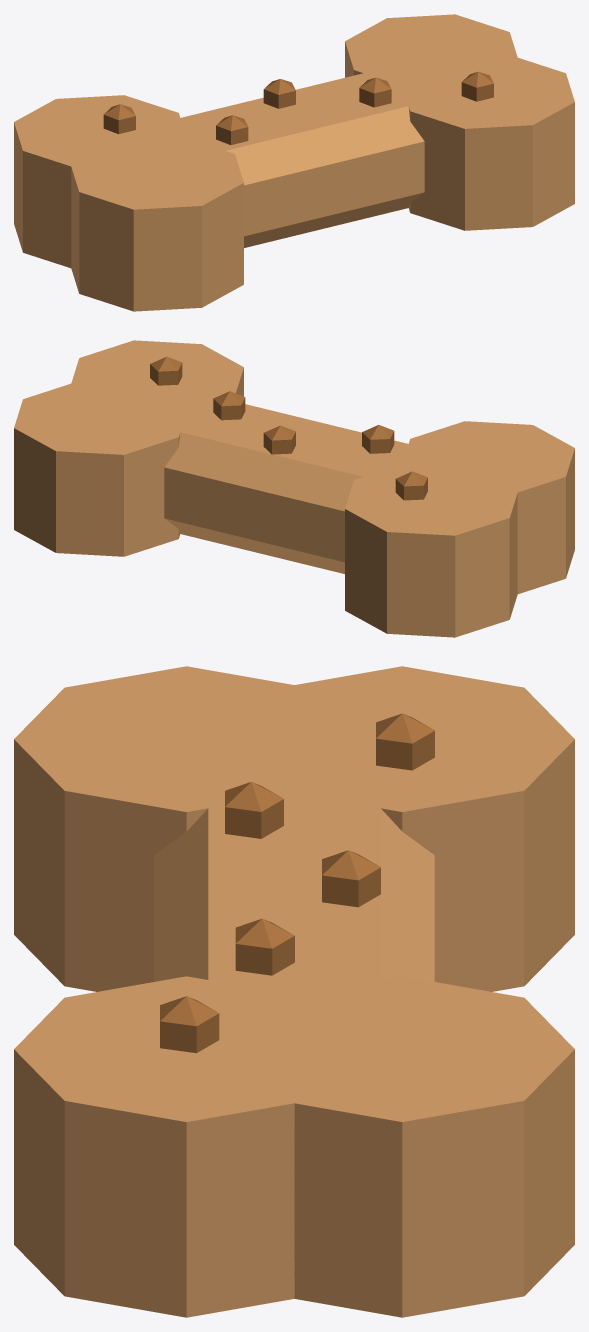
The model's file is treat.glb.
3 views of the same model, one above another, from view 1: azimuth 30°, elevation 25°; view 2: azimuth 150°, elevation 25°; view 3: azimuth 270°, elevation 25° (orthographic). The views are drawn at different scales.
Visible parts, largest first — view 1: leckerli; view 2: leckerli; view 3: leckerli.
Boxes of the visible parts, x1=… form: leckerli: x1=14, y1=14, x2=574, y2=311; leckerli: x1=14, y1=340, x2=574, y2=637; leckerli: x1=14, y1=666, x2=574, y2=1317.
Size of the model in its own units: 1 by 0.245 by 0.52.
